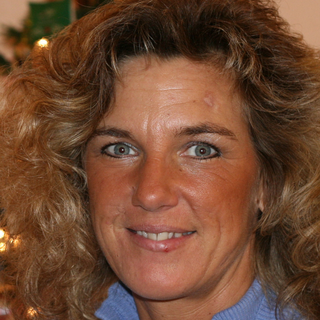eye: (174, 139, 224, 164), (96, 138, 143, 162)
